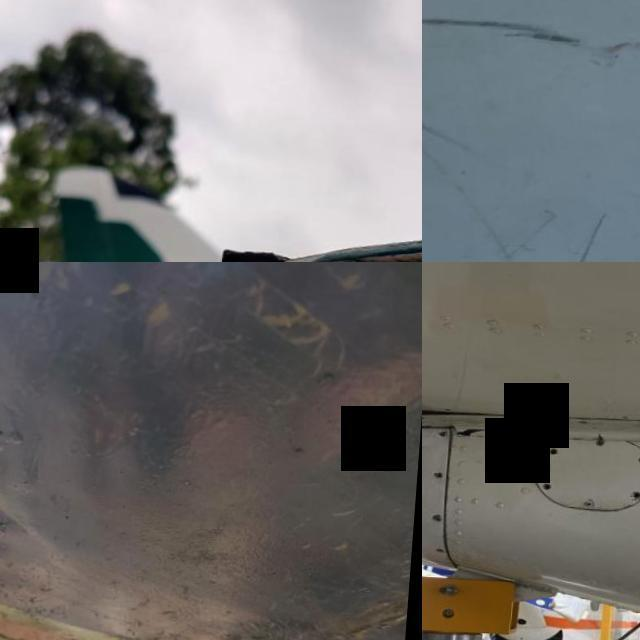Crack: (169, 236, 363, 262)
Dent: (0, 420, 71, 566)
Missing_Fastener: (552, 446, 564, 453), (439, 470, 448, 478), (546, 481, 556, 488), (636, 487, 640, 495), (442, 548, 450, 552)
